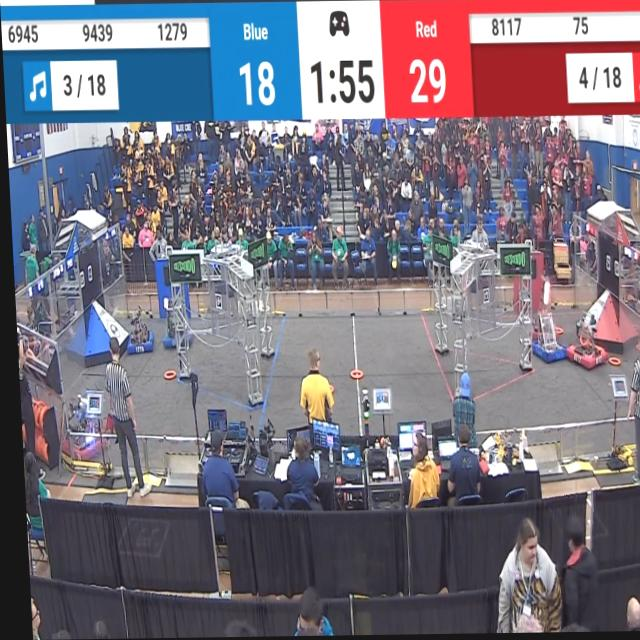Robot: (561, 302, 613, 377), (55, 384, 102, 463), (526, 295, 561, 369), (158, 290, 192, 353), (120, 304, 153, 362), (526, 298, 561, 339)
